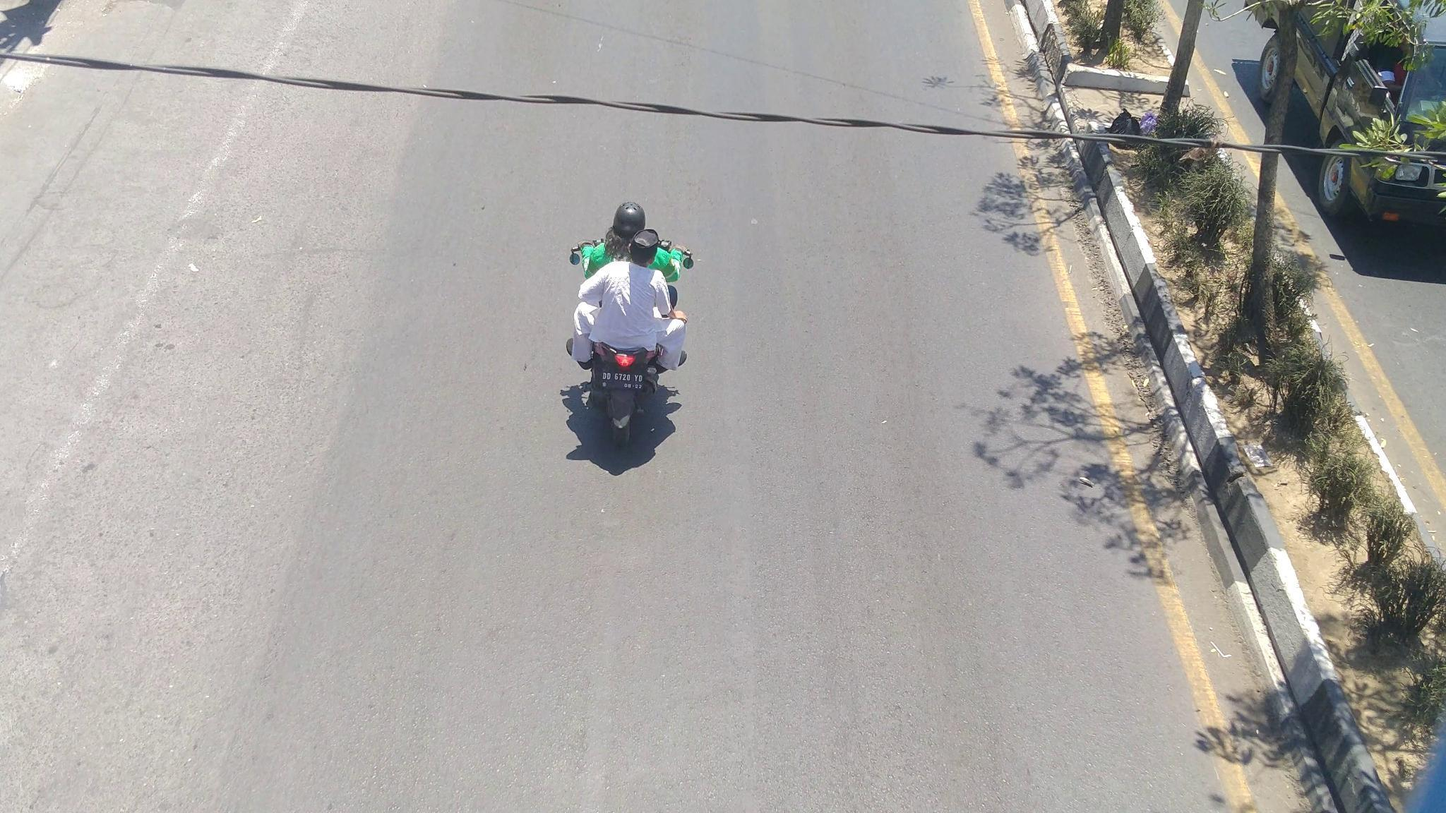Helmet: (607, 193, 653, 248)
bike: (565, 223, 695, 455)
no-helmet: (625, 225, 661, 268)
number-plate: (597, 370, 645, 392)
rider: (575, 225, 686, 370), (580, 198, 686, 284)
